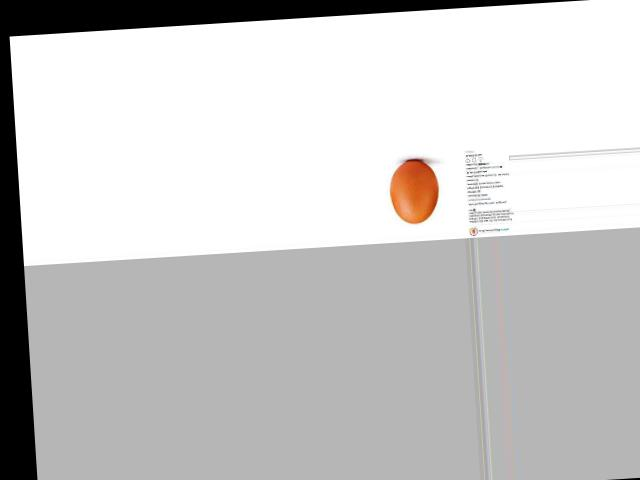egg: (388, 158, 440, 224)
